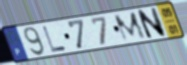7: (65, 19, 87, 51), (90, 15, 110, 47)
9: (22, 26, 47, 57)
L: (41, 25, 68, 53)
M: (112, 11, 148, 44)
N: (135, 6, 168, 41)
